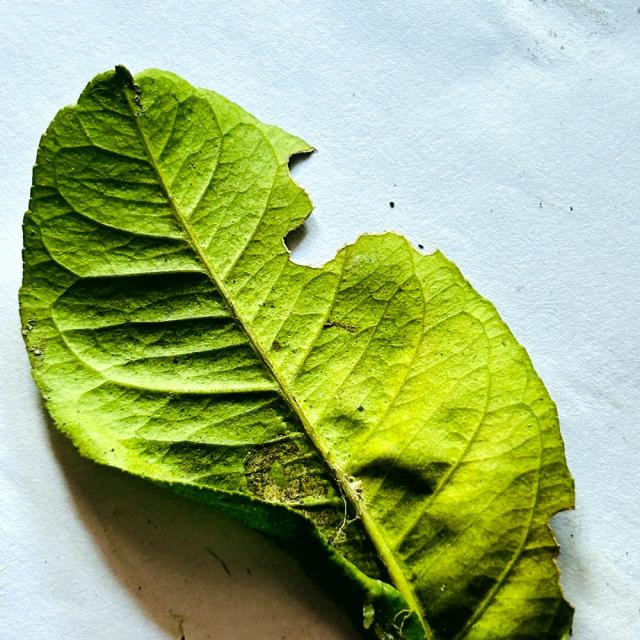Deficiency Leaf: (184, 431, 403, 640), (285, 145, 444, 266), (549, 509, 598, 614)
Lemon: (20, 66, 573, 639)
